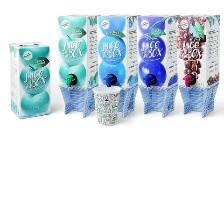carton: (8, 35, 54, 123), (95, 12, 142, 90), (55, 11, 102, 88), (133, 14, 181, 88), (176, 13, 222, 89)
paper_cup: (92, 83, 125, 128)
